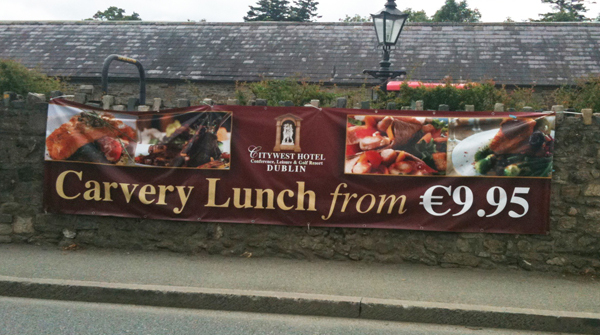vinyl banner: (43, 90, 559, 249)
